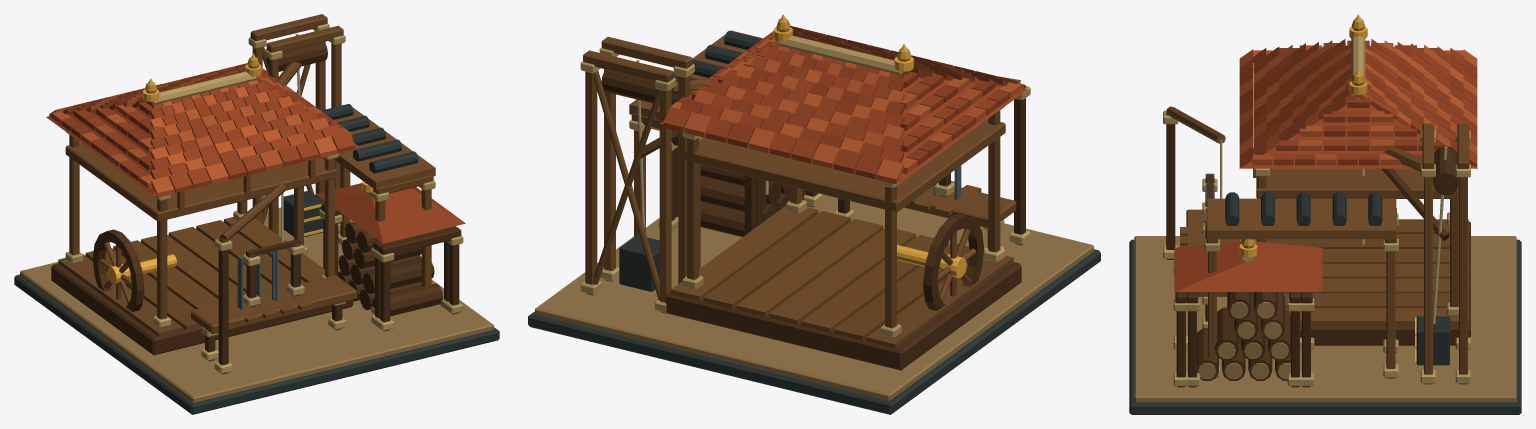
3 views of the same model, side by side, from view 1: azimuth 30°, elevation 25°; view 2: azimuth 150°, elevation 25°; view 3: azimuth 270°, elevation 25° (orthographic). The views are drawn at different scales.
Parts seen in each view (by area): view 1: lumber_11_structure, lumber_11_metal; view 2: lumber_11_structure, lumber_11_metal; view 3: lumber_11_structure, lumber_11_metal.
Boxes of the visible parts, <box> form: lumber_11_structure: <box>14,14,499,414</box>; lumber_11_metal: <box>107,53,373,283</box>; lumber_11_structure: <box>528,19,1100,414</box>; lumber_11_metal: <box>671,14,966,278</box>; lumber_11_structure: <box>1129,18,1521,414</box>; lumber_11_metal: <box>1239,14,1416,364</box>.
Size of the model in its own units: 5.6 by 4.26 by 5.6.
